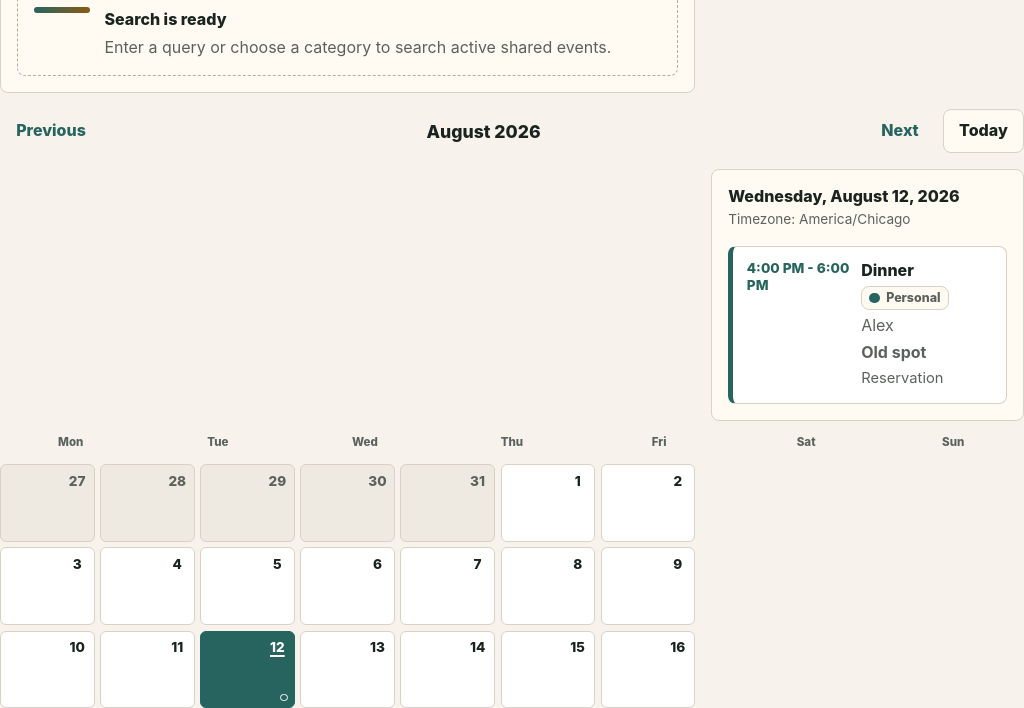
it: SharedCalendar › opens event details and saves edits with the loaded event version
The width and height of the screenshot is (1024, 708).
(page scrolled)
Click the button with aria-label "Open Dinner": (868, 325) [728, 246, 1007, 404]
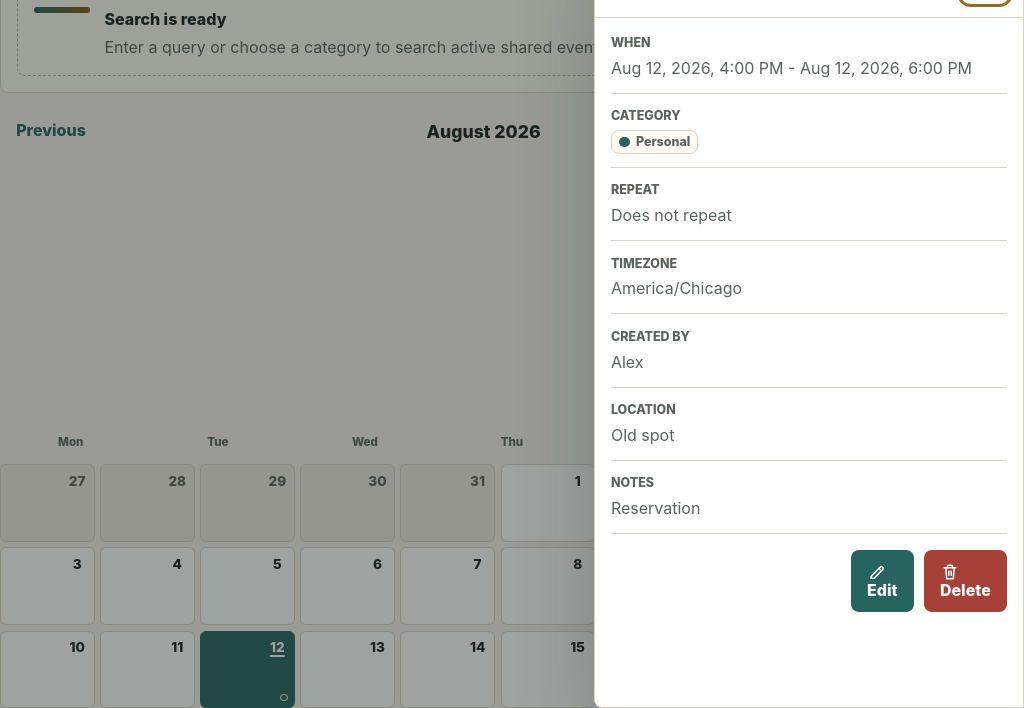
Click the button "Edit": (882, 581) [851, 550, 914, 612]
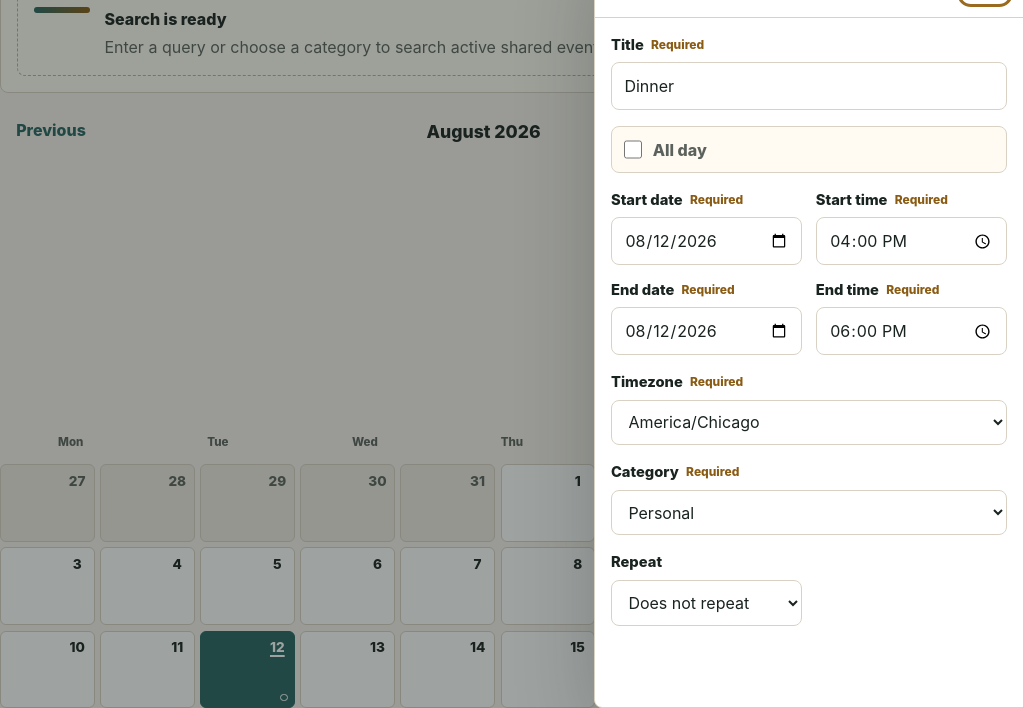
Replace the text in the field labelled "Title Required" with "Dinner updated": (809, 86) [611, 62, 1007, 110]
(page scrolled)
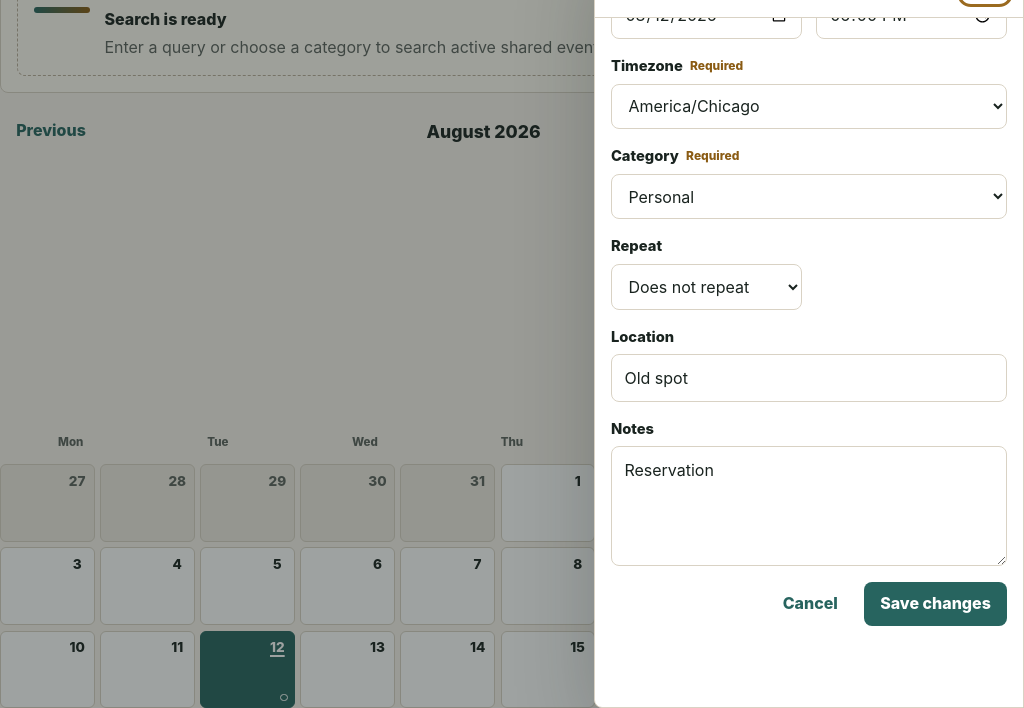
Replace the text in the field labelled "Location" with "New spot": (809, 378) [611, 354, 1007, 402]
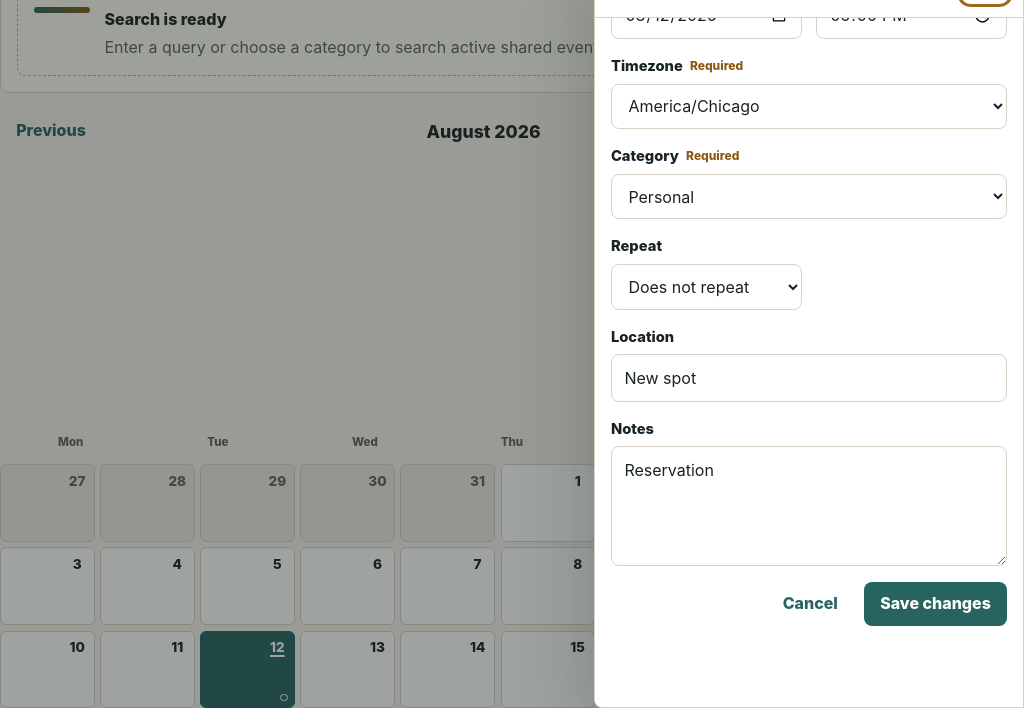
Click the button "Save changes": (936, 604) [864, 582, 1007, 626]
(page scrolled)
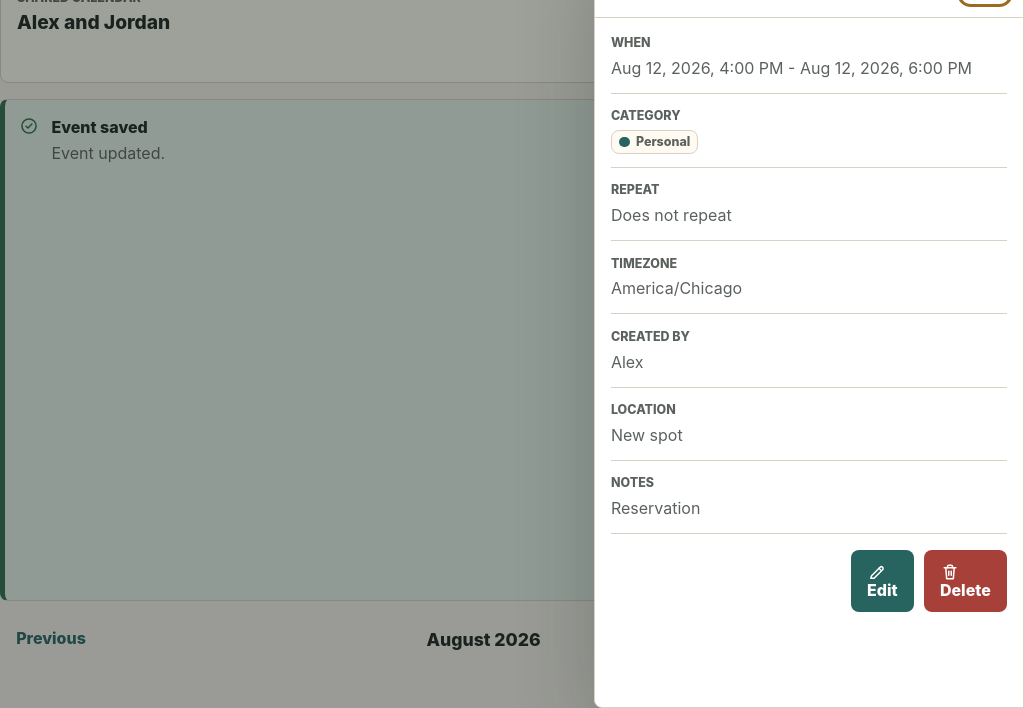
Expected: the text "Event updated." is shown, [51, 143, 165, 163]
